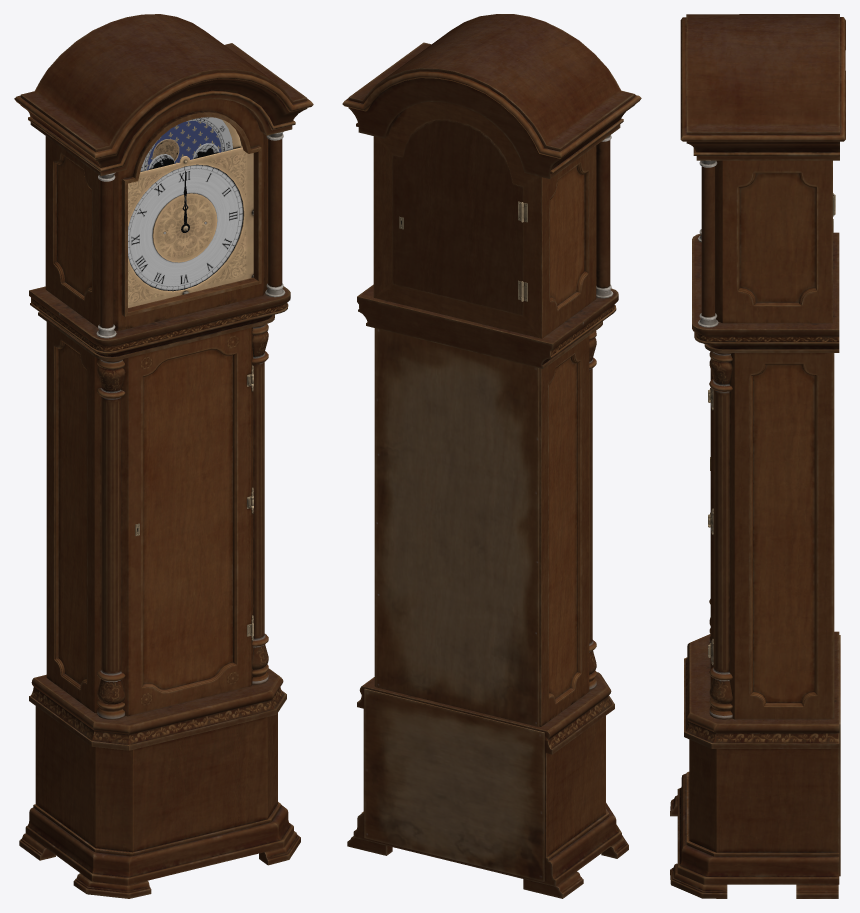
The model's file is GrandClock.fbx.
The picture shows the model from 3 angles, left to right: view 1: azimuth 30°, elevation 25°; view 2: azimuth 150°, elevation 25°; view 3: azimuth 270°, elevation 25°; orthographic projection. The views are drawn at different scales.
Visible parts, largest first — view 1: body; view 2: body; view 3: body.
Boxes of the visible parts, <box> form: body: <box>14,14,313,898</box>; body: <box>342,14,641,898</box>; body: <box>670,14,845,898</box>.
Size of the model in its own units: 0.6256 by 2.19 by 0.4266.
